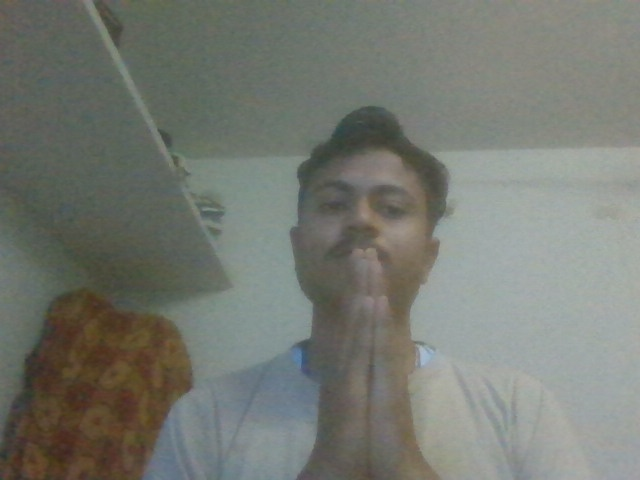Namaste: (321, 248, 423, 480)
